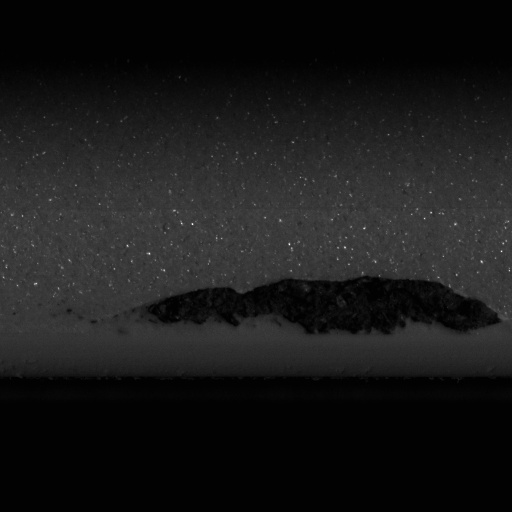bengque: (147, 272, 505, 335)
